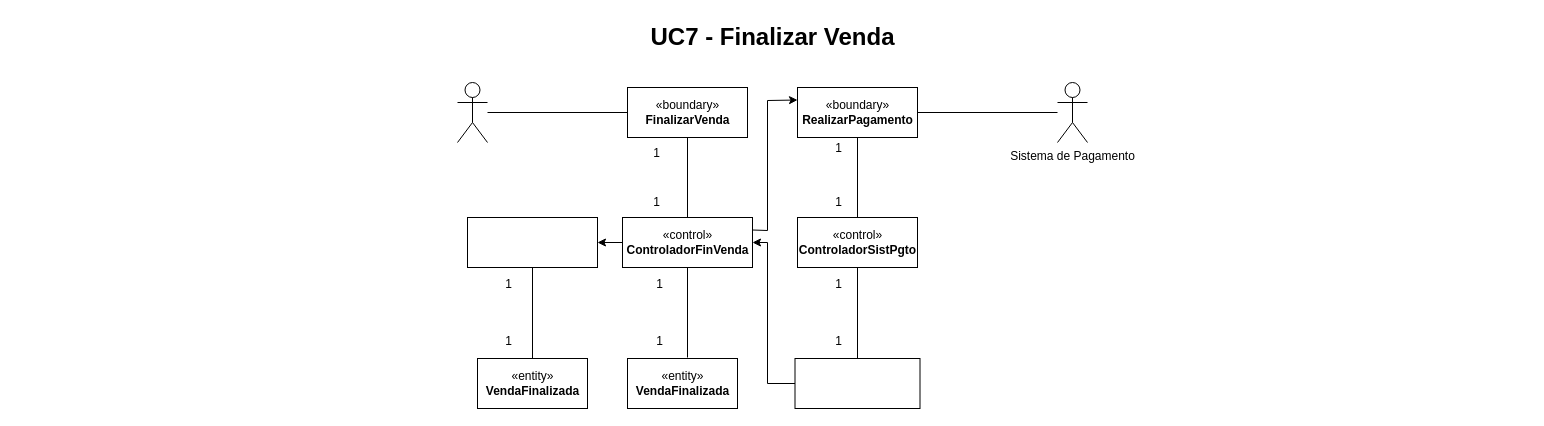
Image size: 1544x426. Some labels were removed from this diagram. Here are the shapes that lost their labels. From the top down, the centre of each, then its label:
At point (472, 112): "Operador do Caixa".
At point (532, 242): "«control» EmissorDeNF".
At point (857, 383): "«entity» PagamentoRecebido".
